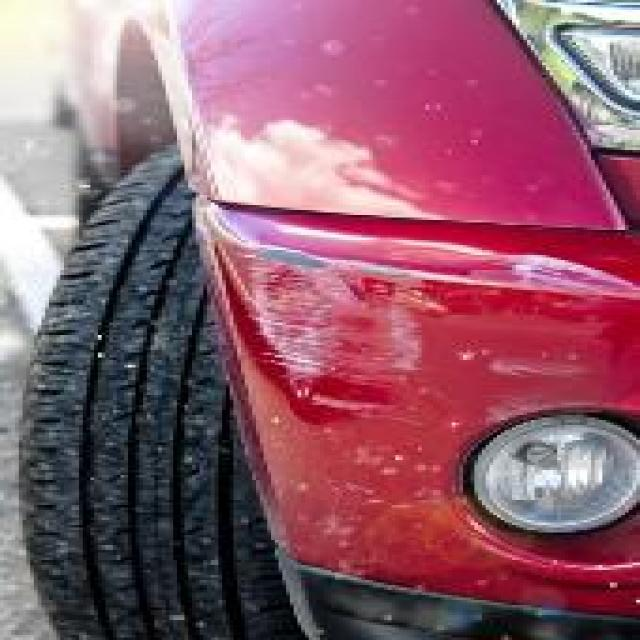Bumper: (215, 222, 640, 590)
